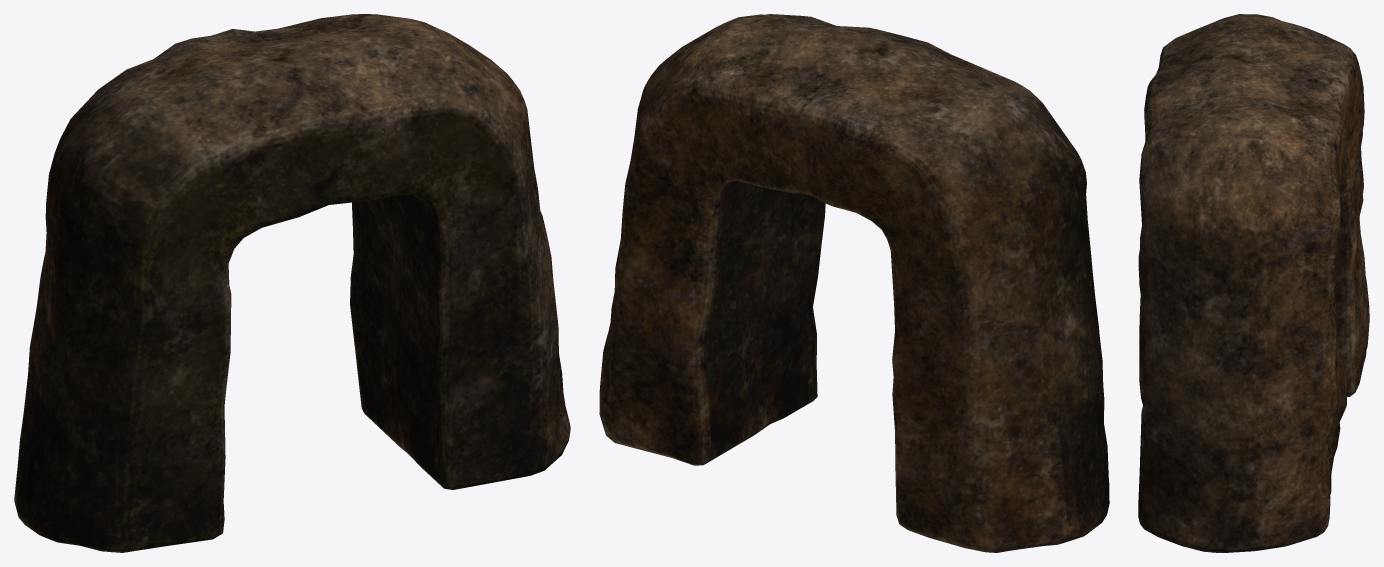
The model's file is SM_TI_RockEntrance_0.fbx.
3 views of the same model, side by side, from view 1: azimuth 30°, elevation 25°; view 2: azimuth 150°, elevation 25°; view 3: azimuth 270°, elevation 25° (orthographic). The views are drawn at different scales.
Parts seen in each view (by area): view 1: SM_TI_RockEntrance_0; view 2: SM_TI_RockEntrance_0; view 3: SM_TI_RockEntrance_0.
Part boxes in pixels (box(x1,y1,x2,y2)): SM_TI_RockEntrance_0: box(14, 14, 570, 552); SM_TI_RockEntrance_0: box(599, 14, 1109, 552); SM_TI_RockEntrance_0: box(1138, 14, 1369, 552).
Size of the model in its own units: 20.85 by 9.12 by 16.83.
